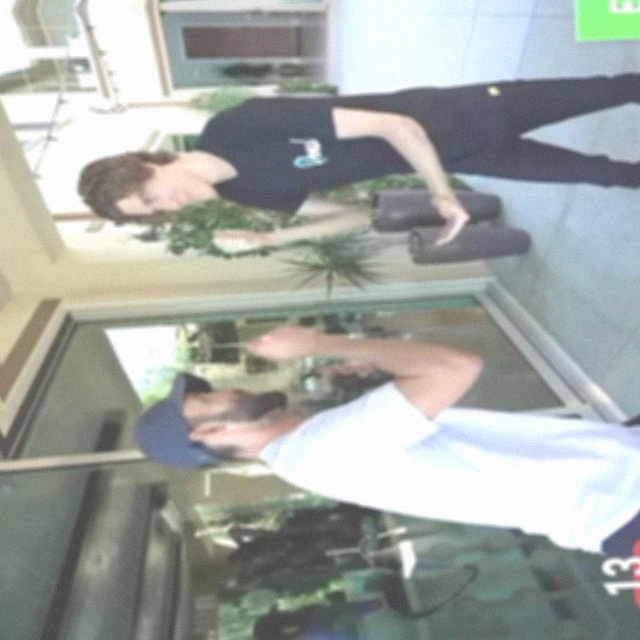Rock: (244, 323, 320, 360), (210, 225, 268, 254)
